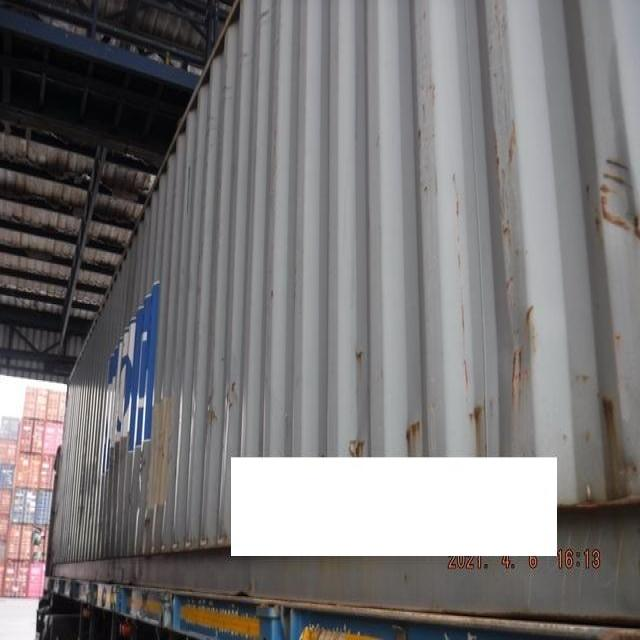dent: (479, 268, 547, 405)
